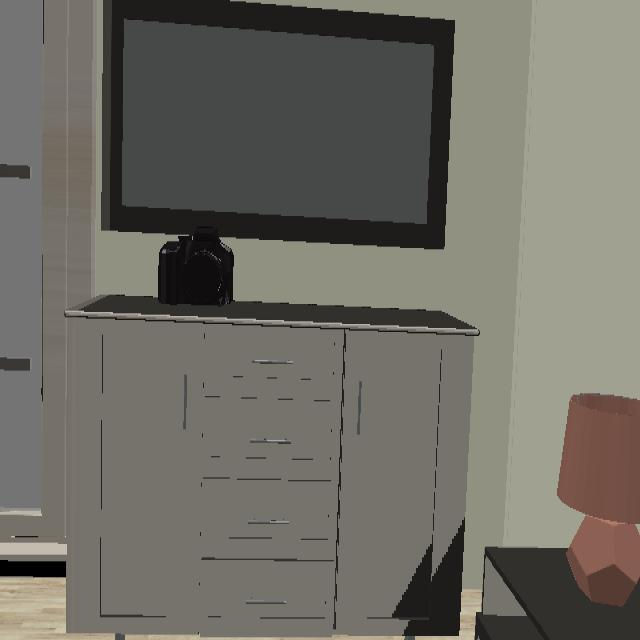cabinet: (66, 301, 442, 633)
lamp: (556, 393, 640, 608)
nighttable: (479, 548, 640, 640)
